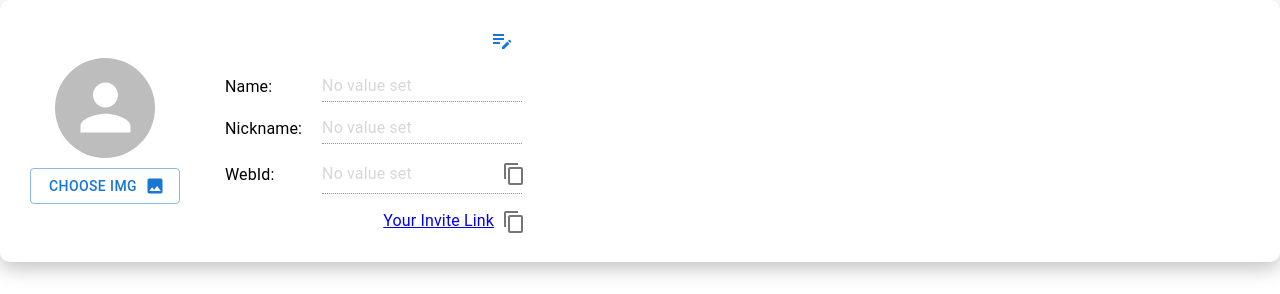
Test: ProfileComponent › renders cancel and update buttons after clicking on edit button from initial render
Click the button named "Edit" at [502, 40], box [482, 20, 522, 60]
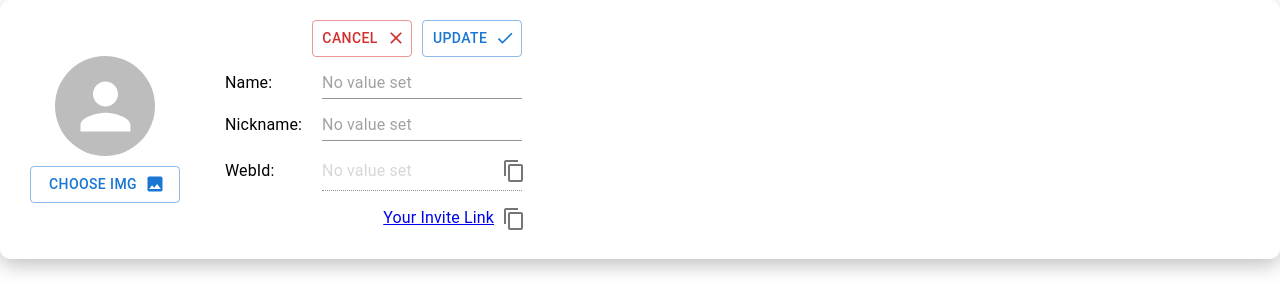
Expected: the button "Cancel" is shown, [312, 20, 412, 56]
Expected: the button "Update" is shown, [422, 20, 522, 56]
Expected: the button "Edit" is gone
